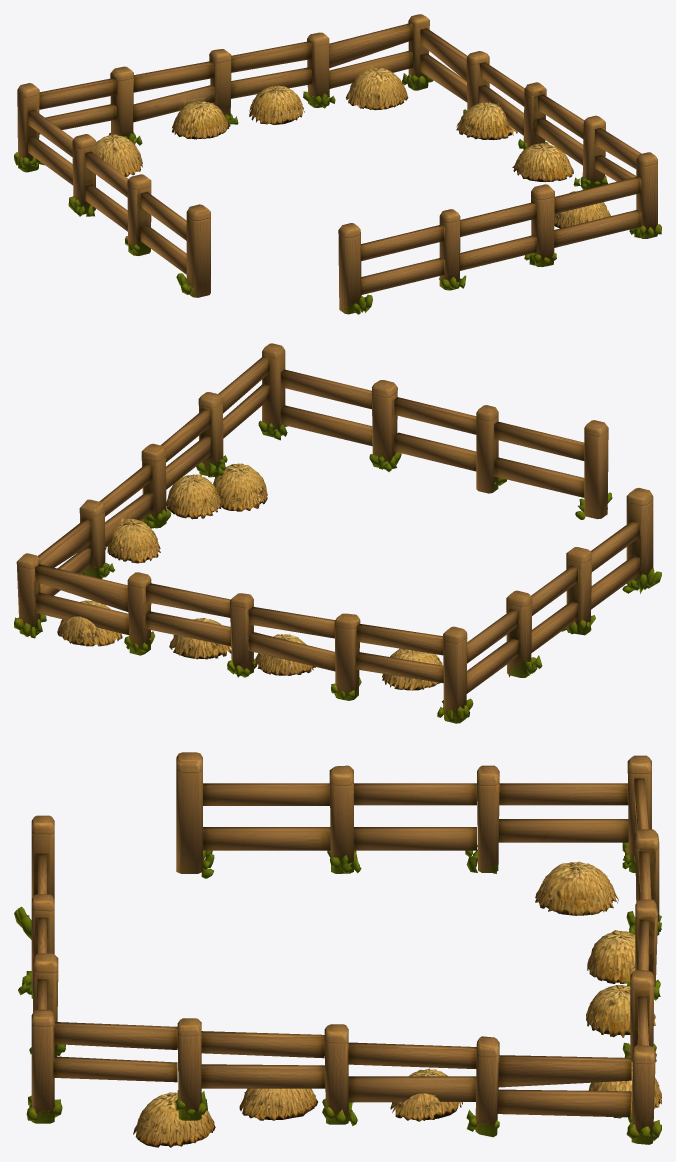
Rendered from farm_fence_3d_model.fbx.
The picture shows the model from 3 angles, top to bottom: view 1: azimuth 30°, elevation 25°; view 2: azimuth 150°, elevation 25°; view 3: azimuth 270°, elevation 25°; orthographic projection. The views are drawn at different scales.
Visible parts, largest first — view 1: tripo_node_c9a4b68b; view 2: tripo_node_c9a4b68b; view 3: tripo_node_c9a4b68b.
Boxes of the visible parts, x1=… form: tripo_node_c9a4b68b: x1=14, y1=14, x2=661, y2=314; tripo_node_c9a4b68b: x1=14, y1=343, x2=661, y2=723; tripo_node_c9a4b68b: x1=14, y1=752, x2=661, y2=1147.
Bounding box in the file's own units: 0.998 × 0.2246 × 0.998.
